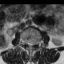CCS_normal: (29, 40, 31, 50)
LFS_severe_stenosis: (33, 40, 36, 47)
LLS_stenosis: (31, 40, 33, 49)
RFS_normal: (25, 39, 27, 47)
RLS_normal: (27, 40, 29, 48)
